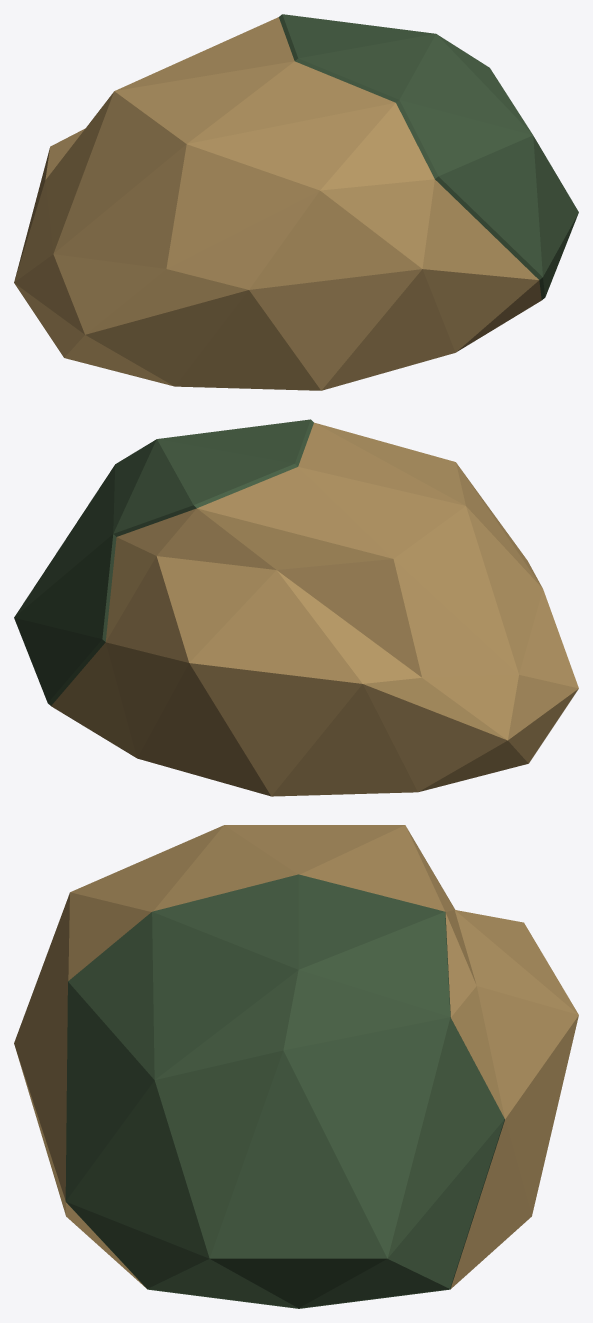
The model's file is MossStone2E.fbx.
The picture shows the model from 3 angles, top to bottom: view 1: azimuth 30°, elevation 25°; view 2: azimuth 150°, elevation 25°; view 3: azimuth 270°, elevation 25°; orthographic projection. The views are drawn at different scales.
Visible parts, largest first — view 1: MossStone2E; view 2: MossStone2E; view 3: MossStone2E.
Part boxes in pixels (bbox=[...]): MossStone2E: bbox=[14, 14, 578, 390]; MossStone2E: bbox=[14, 419, 578, 796]; MossStone2E: bbox=[14, 825, 578, 1308].
Size of the model in its own units: 495 by 233 by 392.
